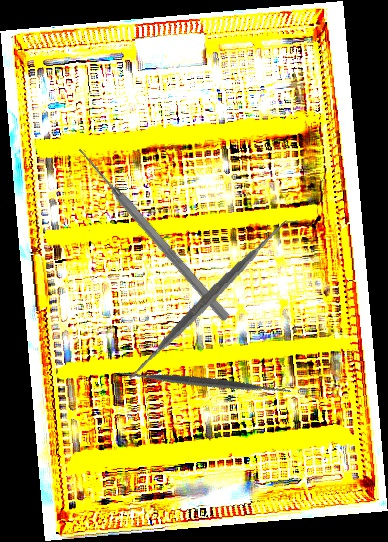Pusher: (72, 142, 233, 324)
Spatula Surgical: (116, 206, 301, 393), (114, 292, 296, 473)
